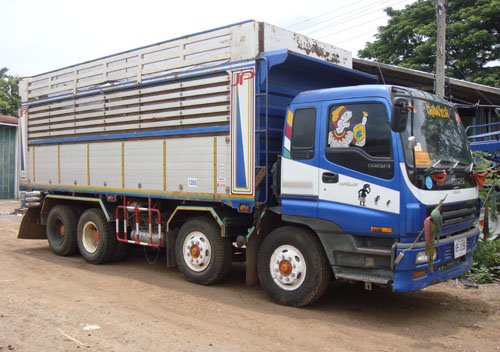truck: (15, 20, 478, 306)
